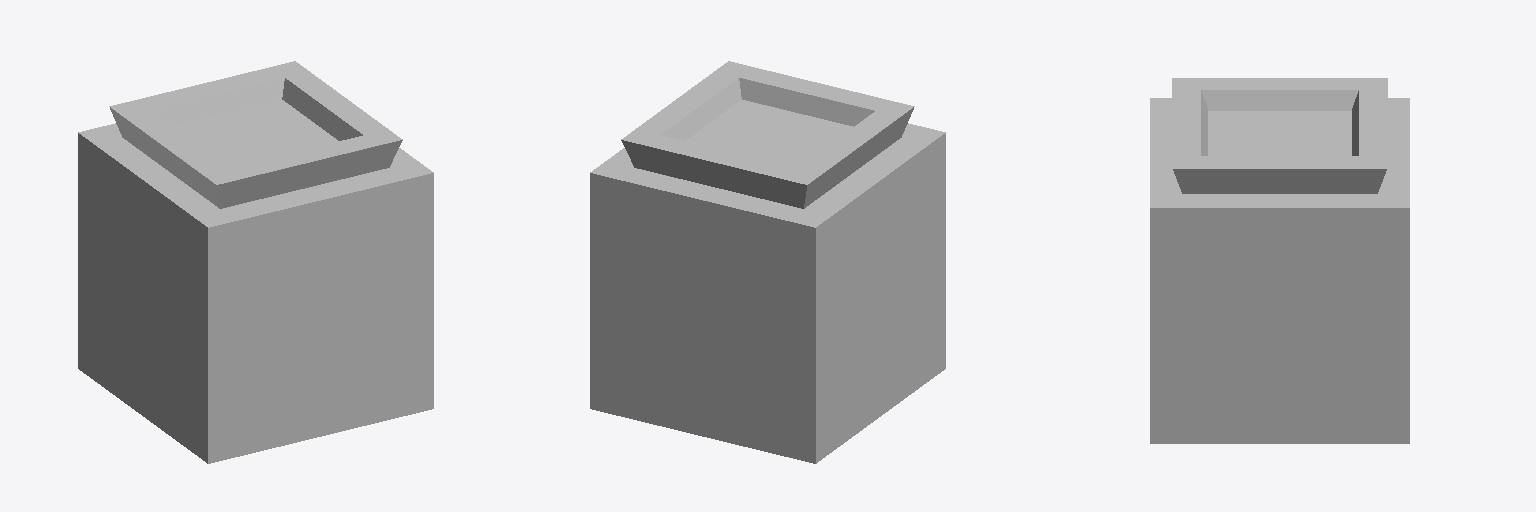
File: SpotCamera.obj
3 renders of one model, left to right at view 1: azimuth 30°, elevation 25°; view 2: azimuth 150°, elevation 25°; view 3: azimuth 270°, elevation 25°, orthographic.
Parts seen in each view (by area): view 1: Cube; view 2: Cube; view 3: Cube.
Part boxes in pixels (left/top/right/bottom): Cube: left=78, top=61, right=433, bottom=463; Cube: left=590, top=61, right=945, bottom=463; Cube: left=1150, top=78, right=1409, bottom=443.
Bounding box in the file's own units: 1 × 1.12 × 1.